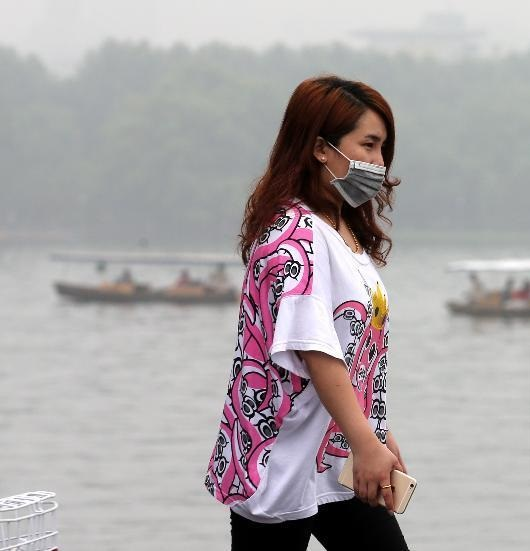face_mask: (329, 108, 387, 206)
